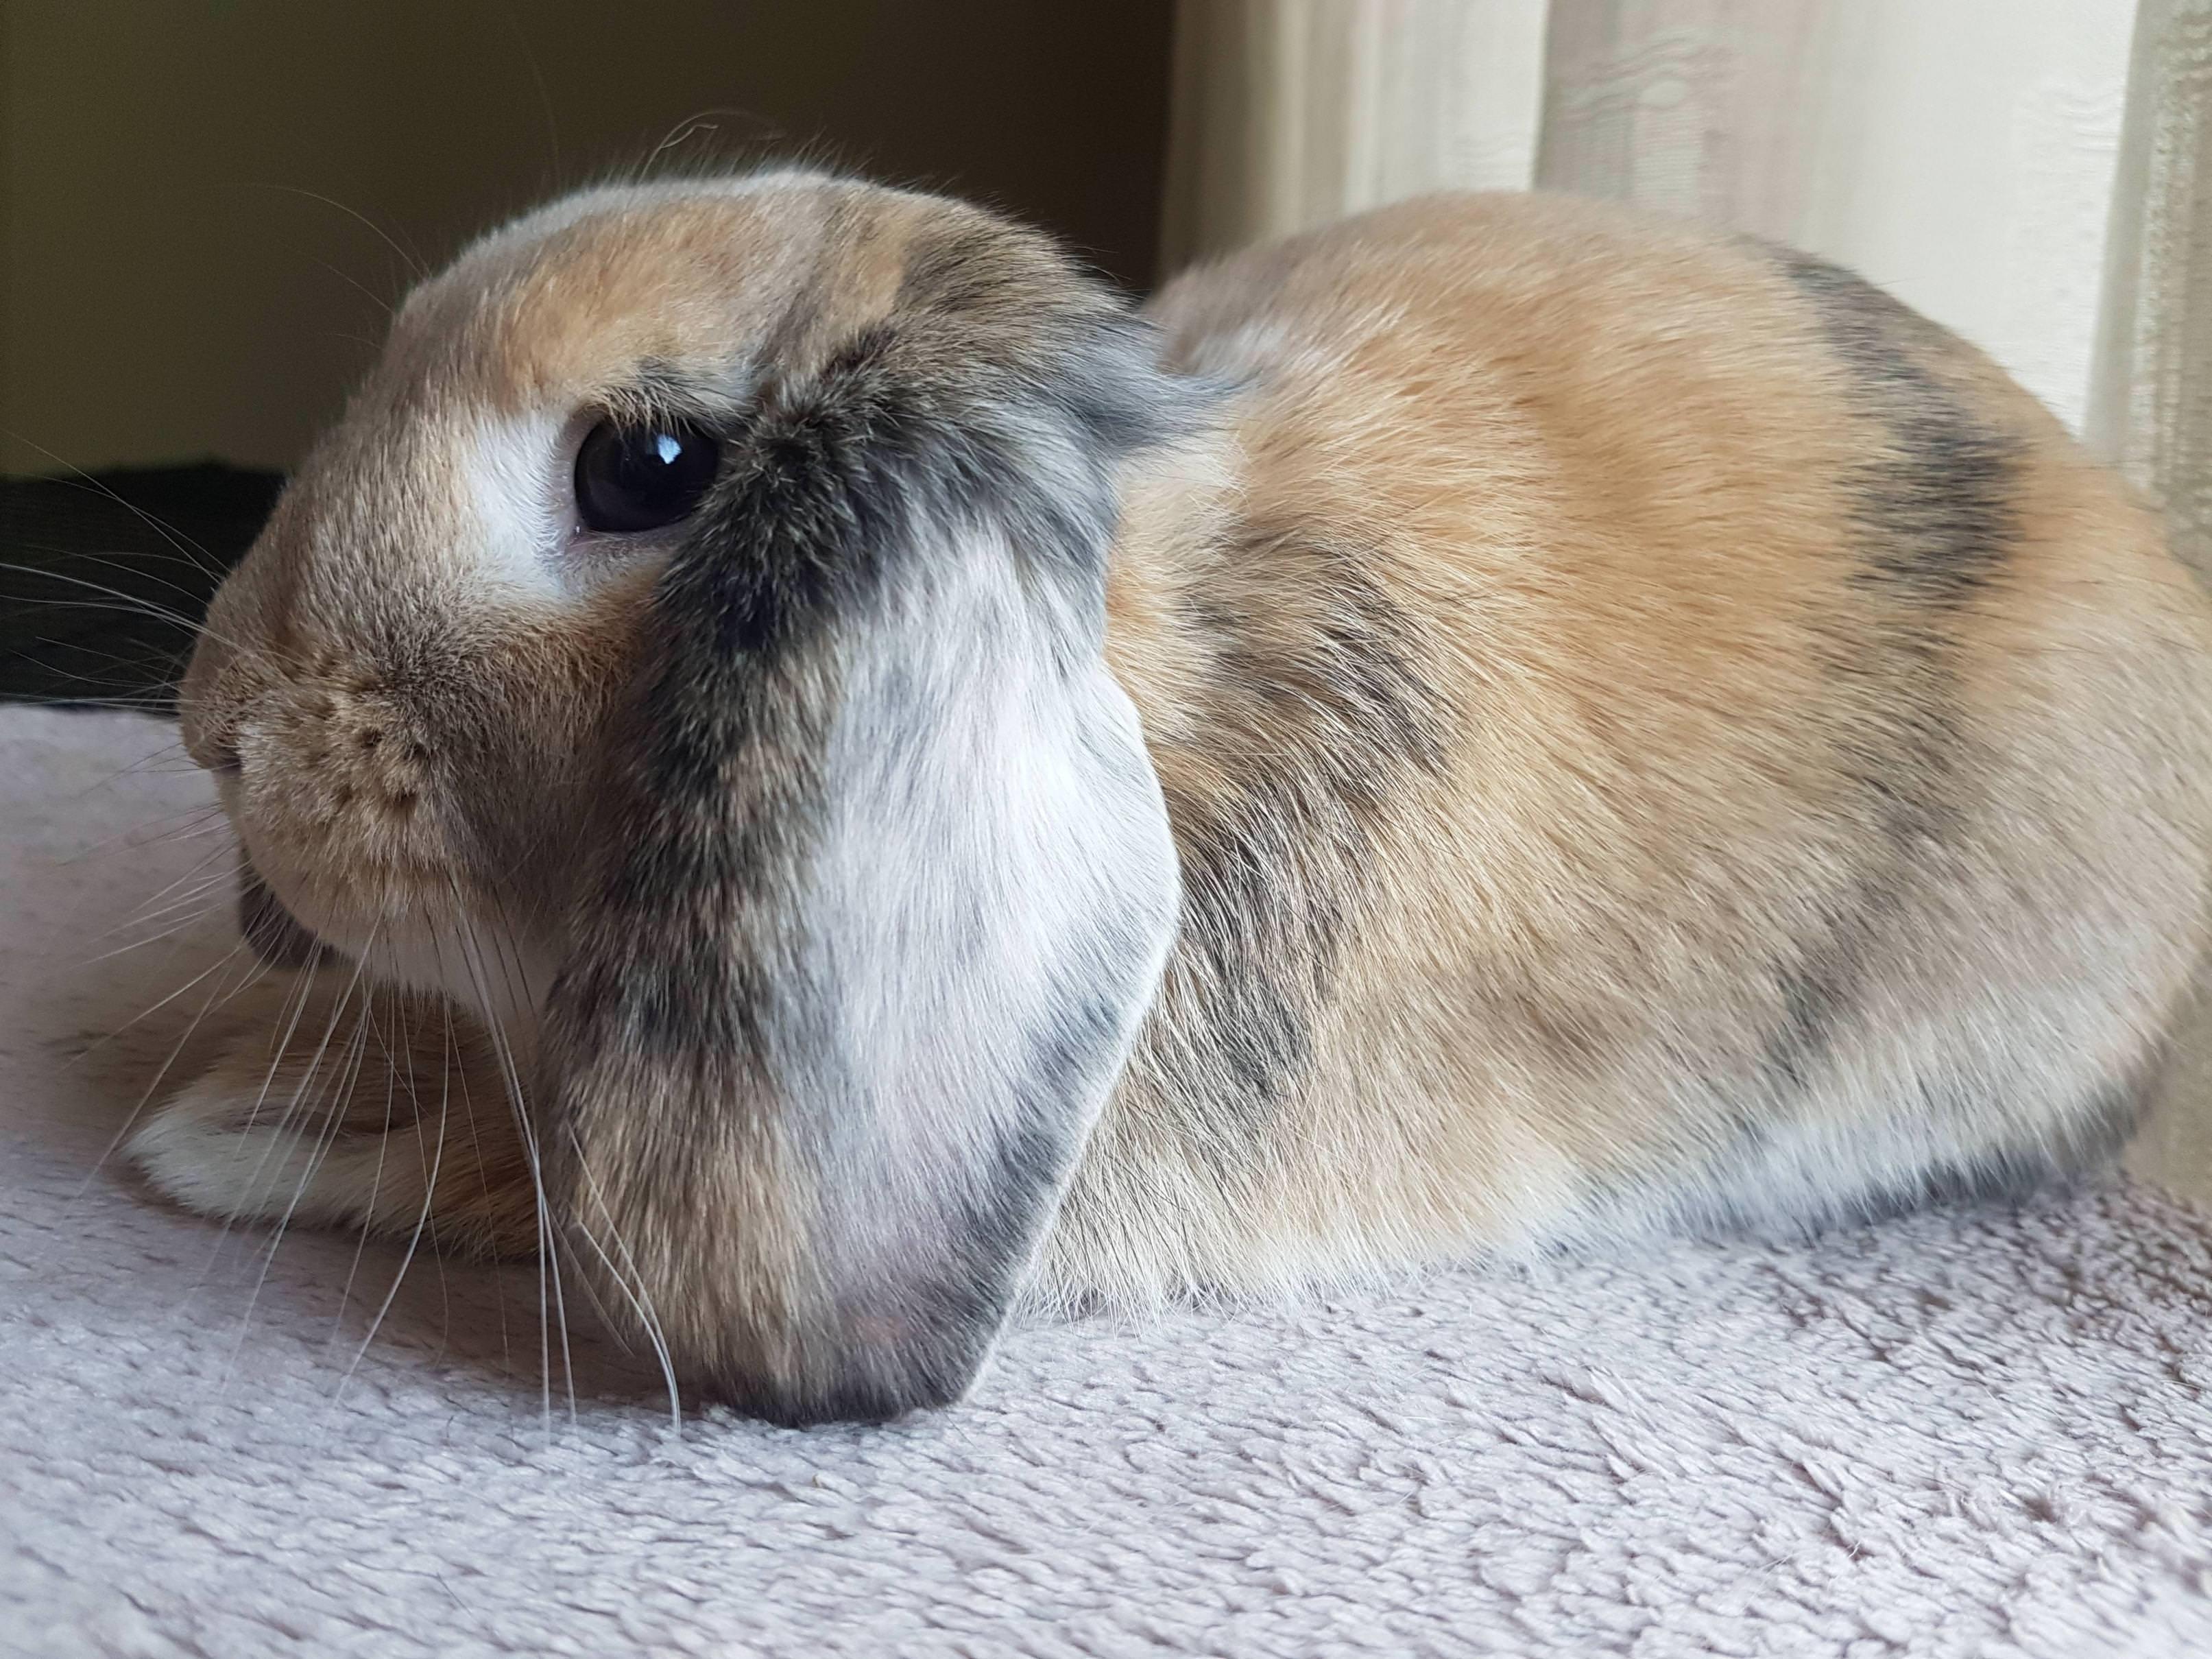bunny: (122, 110, 2212, 1419)
